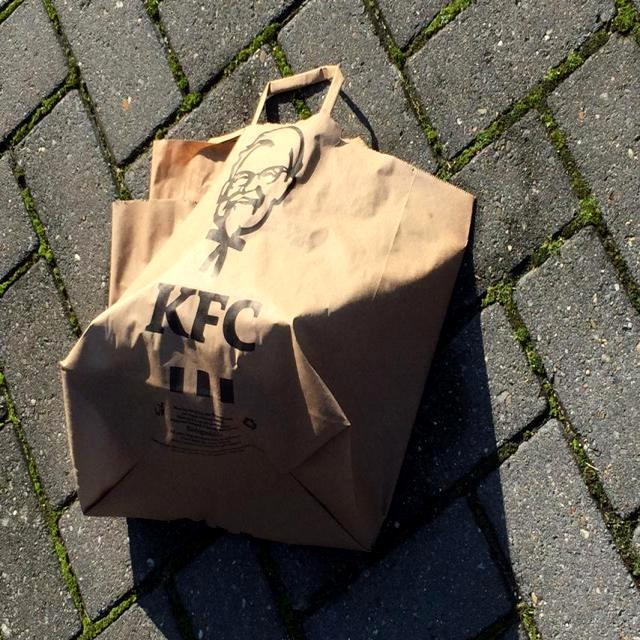Paper: (58, 62, 476, 556)
